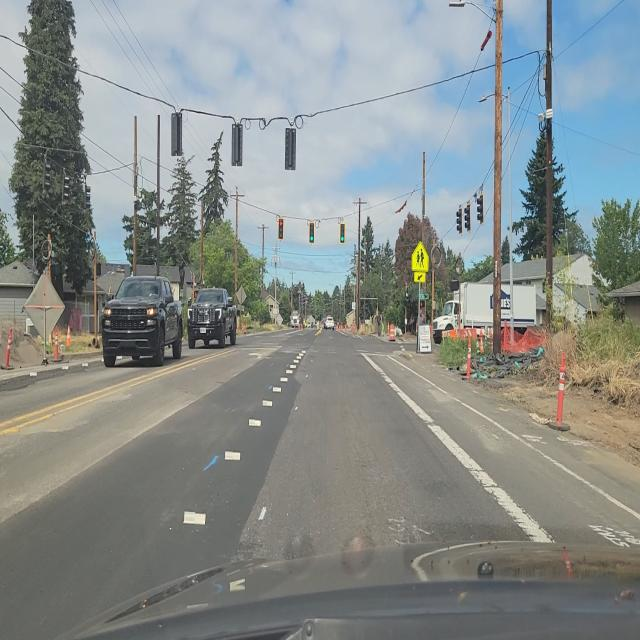car: (101, 275, 187, 367), (187, 287, 238, 349), (324, 316, 335, 331)
delineator: (546, 351, 570, 433), (410, 242, 428, 284), (2, 327, 14, 369), (465, 336, 472, 380), (53, 327, 60, 361), (478, 329, 484, 354), (66, 324, 72, 348), (47, 331, 53, 346), (352, 322, 356, 333)
